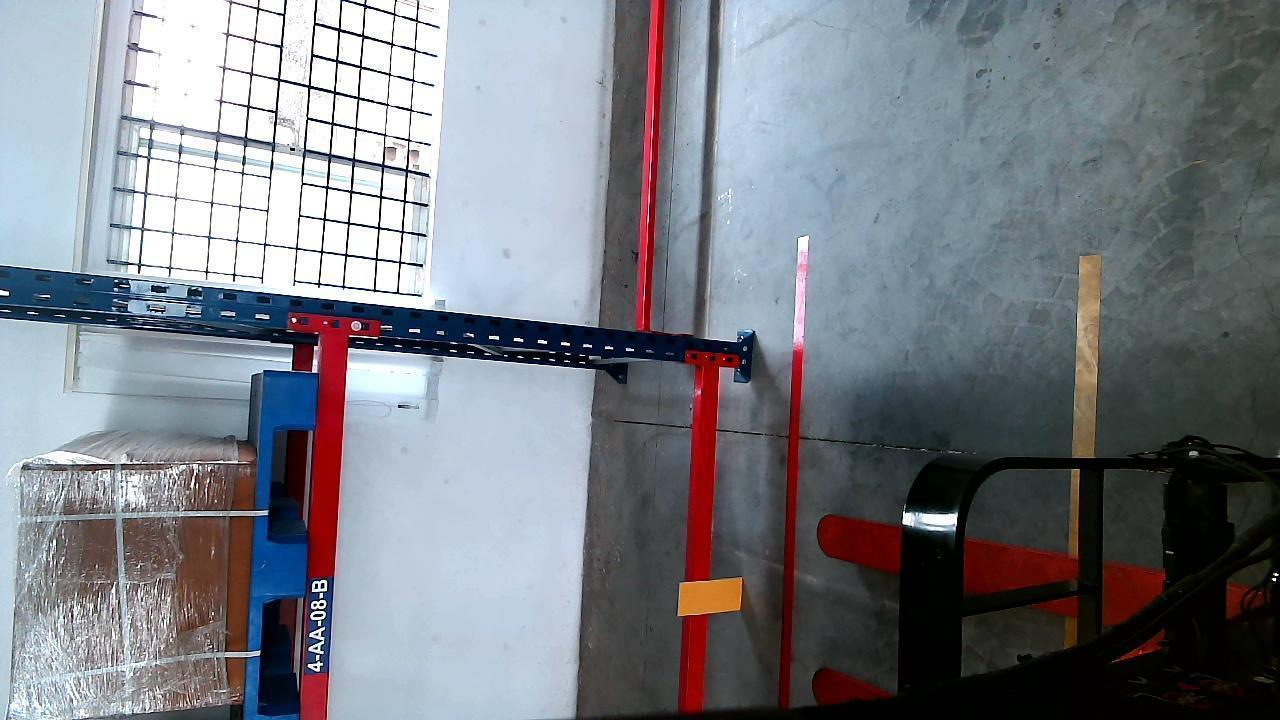red_line: (774, 237, 811, 712)
yellow_line: (1072, 250, 1100, 478)
